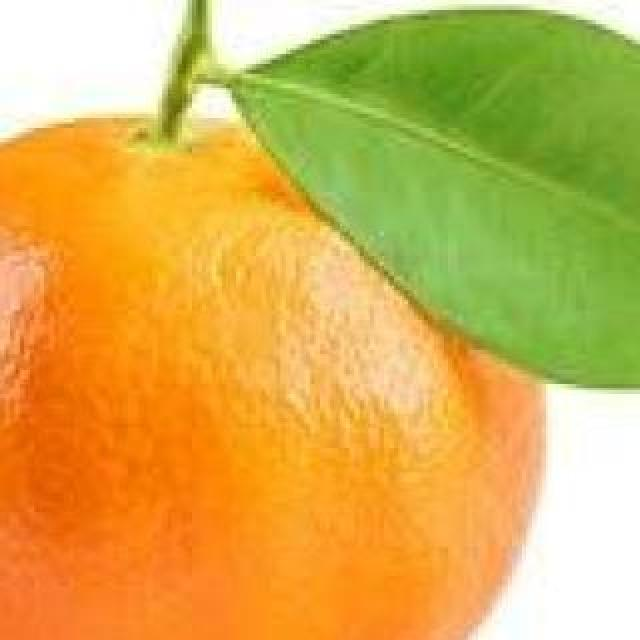orange: (0, 106, 548, 640)
